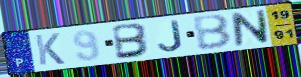9: (72, 29, 102, 63)
B: (190, 13, 234, 51), (112, 22, 153, 61)
J: (157, 19, 185, 53)
K: (33, 32, 67, 67)
N: (230, 8, 271, 48)
